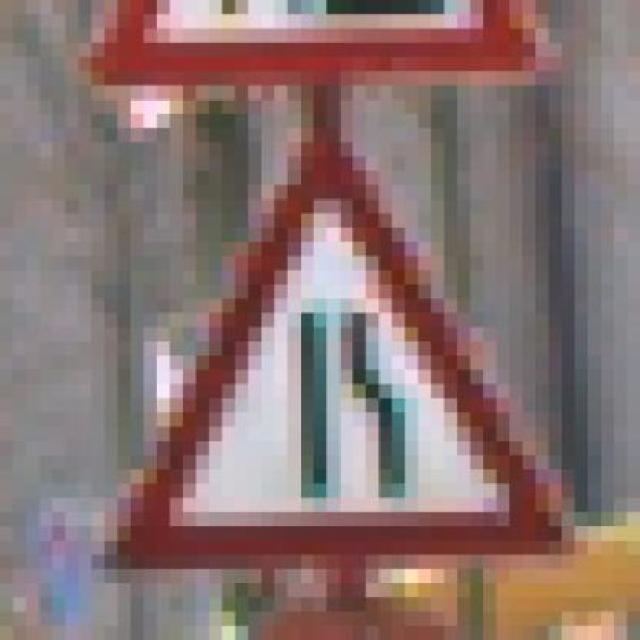-Road narrows on right: (79, 113, 562, 555)
